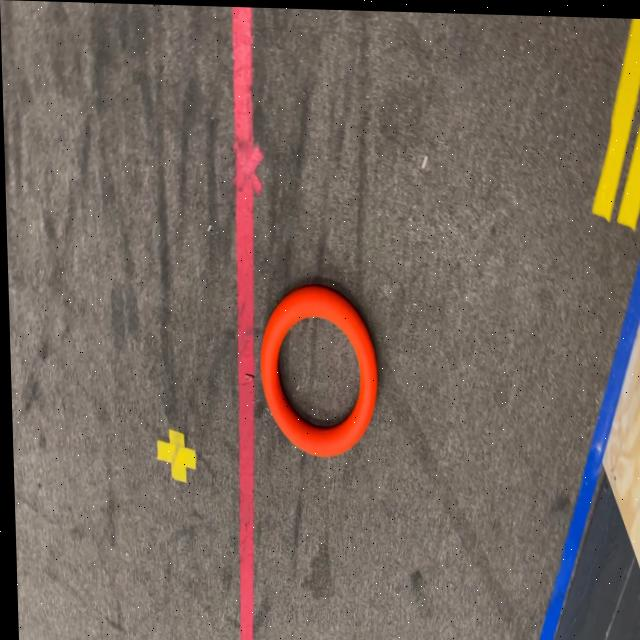note: (256, 280, 378, 455)
